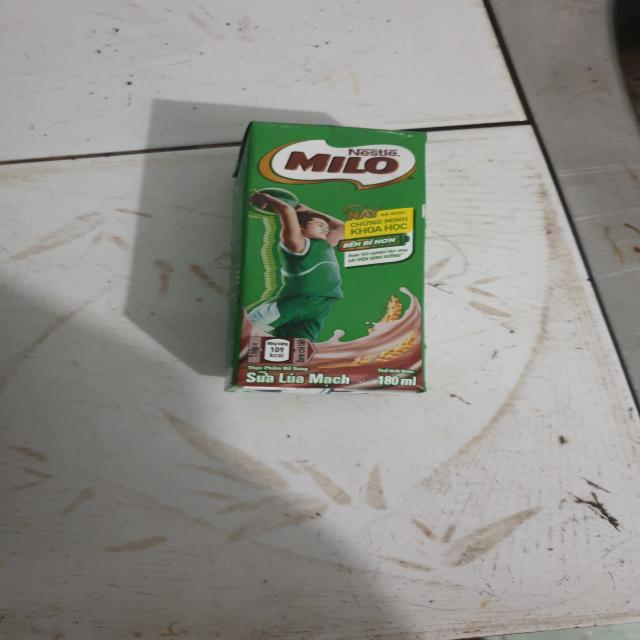Milo: (215, 118, 440, 401)
